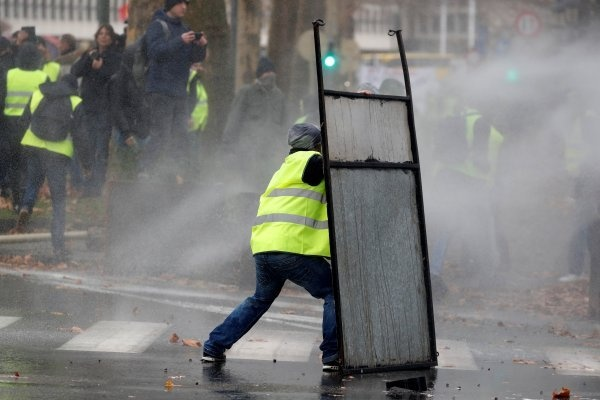person with partial safety: (230, 125, 346, 376), (26, 76, 76, 269), (3, 51, 42, 189)
person without safety: (135, 5, 190, 183), (75, 23, 121, 194), (235, 59, 288, 146)
safety vest: (246, 150, 349, 257), (27, 92, 81, 159), (5, 67, 42, 115), (186, 73, 209, 131)
